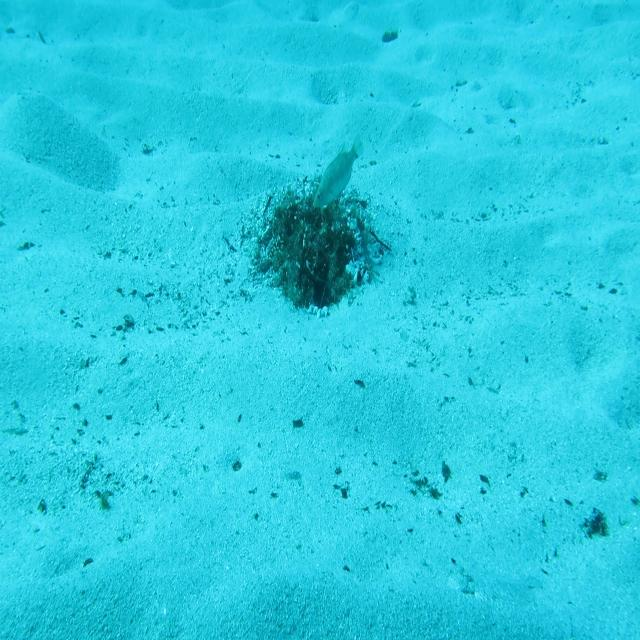MAN: (312, 141, 368, 211)
core_nest: (298, 211, 338, 238)
nest: (262, 181, 380, 320)
